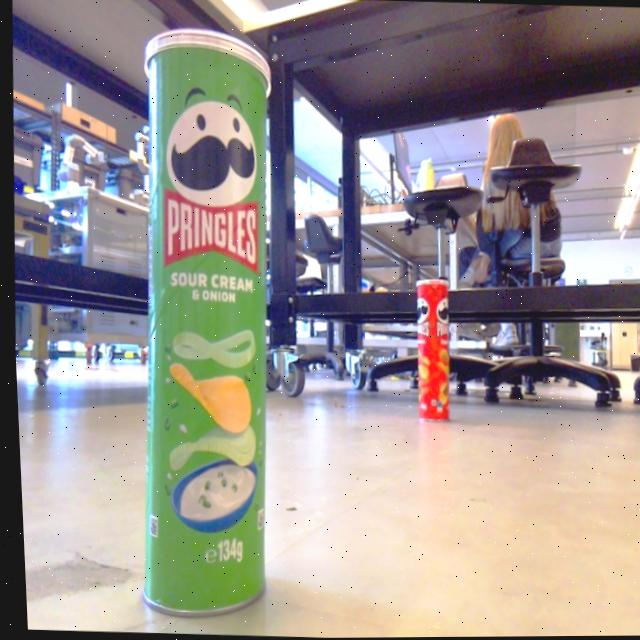greenpringles: (98, 8, 304, 637)
redpringles: (393, 254, 459, 435)
